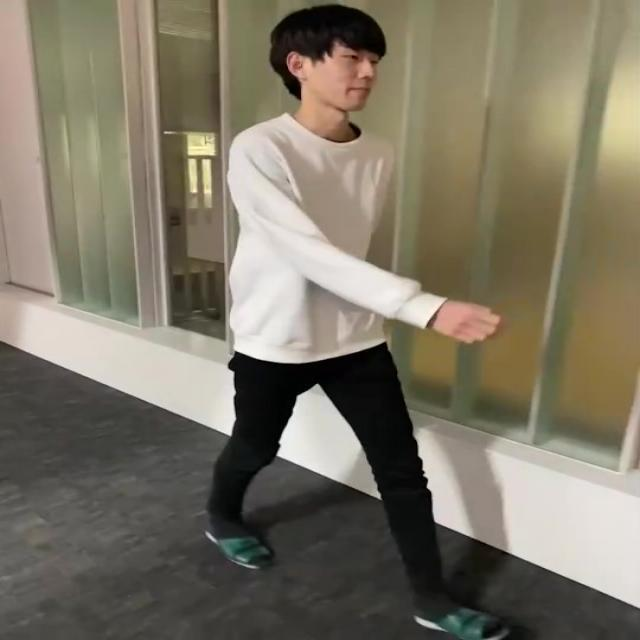direk: (201, 6, 524, 640)
